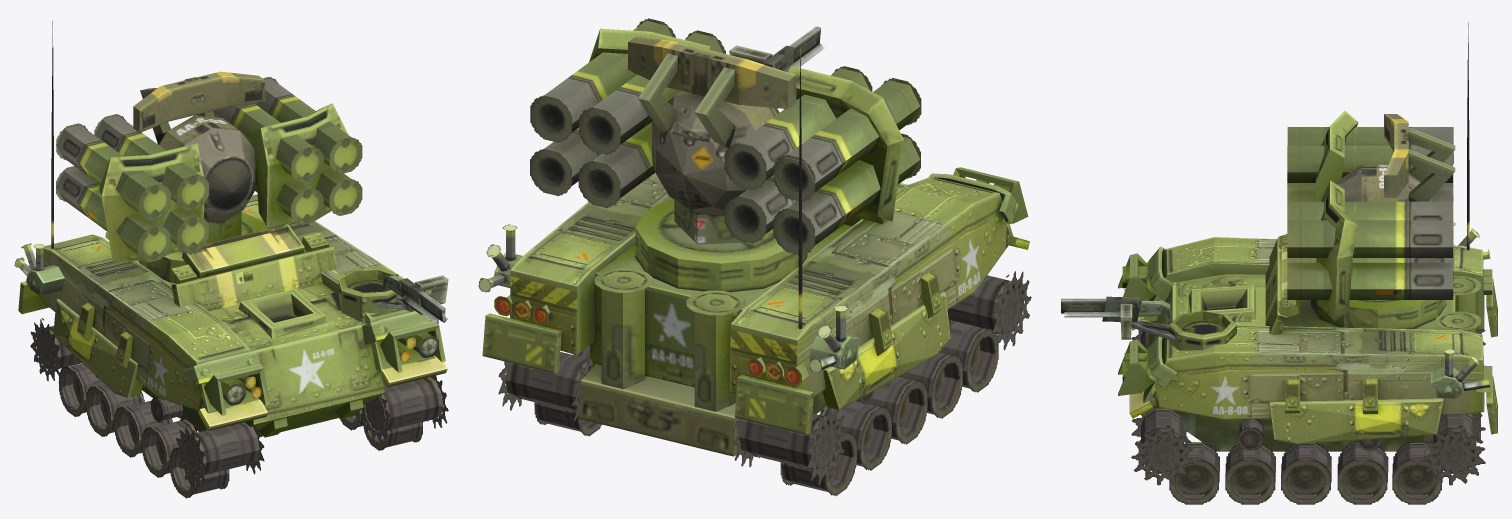
File: VWFAAH.obj
3 views of the same model, side by side, from view 1: azimuth 30°, elevation 25°; view 2: azimuth 150°, elevation 25°; view 3: azimuth 270°, elevation 25° (orthographic). The views are drawn at different scales.
Parts seen in each view (by area): view 1: Node 0, Node 3, Node 10, Node 30, Node 9, Node 21, Node 8, Node 4, Node 6, Node 18, Node 17, Node 32 (+12 smaller); view 2: Node 0, Node 3, Node 10, Node 9, Node 8, Node 4, Node 31, Node 6, Node 5, Node 22, Node 30, Node 7 (+10 smaller); view 3: Node 0, Node 3, Node 11, Node 4, Node 21, Node 22, Node 18, Node 6, Node 26, Node 24, Node 23, Node 8 (+8 smaller).
Part boxes in pixels (<box>): Node 0: <box>14,194,447,437</box>; Node 3: <box>99,71,348,261</box>; Node 10: <box>56,123,170,220</box>; Node 30: <box>176,422,264,487</box>; Node 9: <box>56,166,170,262</box>; Node 21: <box>361,375,448,443</box>; Node 8: <box>94,114,209,211</box>; Node 4: <box>255,76,362,174</box>; Node 6: <box>212,103,323,183</box>; Node 18: <box>375,274,448,324</box>; Node 17: <box>338,269,401,322</box>; Node 32: <box>141,418,197,477</box>; Node 0: <box>478,167,1029,457</box>; Node 3: <box>589,28,903,221</box>; Node 10: <box>773,78,921,201</box>; Node 9: <box>773,133,920,254</box>; Node 8: <box>724,66,872,190</box>; Node 4: <box>530,18,675,142</box>; Node 31: <box>733,407,846,485</box>; Node 6: <box>579,30,725,154</box>; Node 5: <box>578,121,655,208</box>; Node 22: <box>498,352,592,427</box>; Node 30: <box>947,271,1031,350</box>; Node 7: <box>724,175,796,243</box>; Node 0: <box>1118,222,1497,451</box>; Node 3: <box>1315,110,1455,320</box>; Node 11: <box>1287,262,1453,299</box>; Node 4: <box>1287,220,1452,257</box>; Node 21: <box>1131,408,1193,485</box>; Node 22: <box>1423,413,1485,485</box>; Node 18: <box>1061,296,1175,341</box>; Node 6: <box>1287,201,1453,238</box>; Node 26: <box>1281,443,1331,504</box>; Node 24: <box>1337,442,1388,504</box>; Node 23: <box>1225,444,1275,504</box>; Node 8: <box>1287,145,1452,182</box>.
Size of what is drawn, in the model's own units: 4.65 by 6.23 by 6.45.
45 materials, 45 textured.
